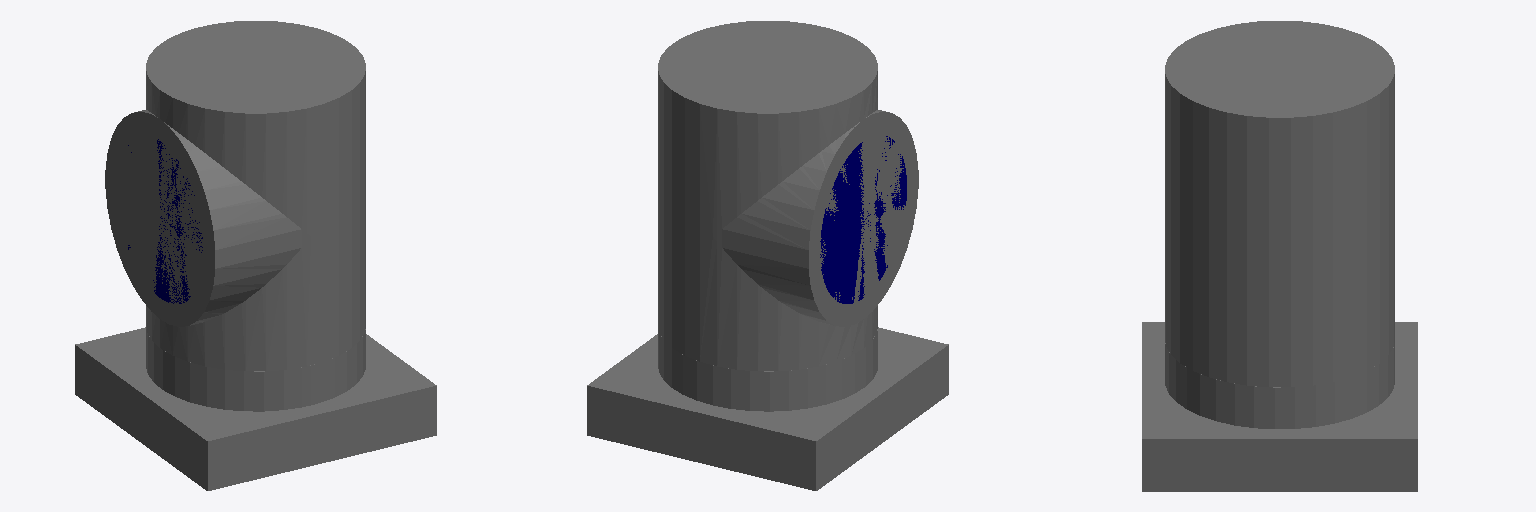
URDF robot description (UNNAMED_0):
<?xml version="1.0"?>
<robot  name="UNNAMED_0" >
 <link  name="BLU1_U_b_body" >
  <inertial >
   <origin  xyz="-9.4624E-18 1.1154E-17 0.022042"  rpy="0 0 0" />
   <mass  value="1" />
   <inertia  iyz="3.3647E-19"  iyy="0.009154"  ixy="1.7613E-19"  ixx="0.009154"  izz="0.015925"  ixz="-3.4018E-19" />
  </inertial>
  <visual >
   <origin  xyz="0 0 0"  rpy="0 0 0" />
   <geometry >
    <mesh  filename="package://base-l.SLDASM/meshes/b_body.STL" />
   </geometry>
   <material  name="body" >
    <color  rgba="0.5 0.5 0.5 1" />
   </material>
  </visual>
  <collision >
   <origin  xyz="0 0 0"  rpy="0 0 0" />
   <geometry >
    <mesh  filename="package://base-l.SLDASM/meshes/b_body.STL" />
   </geometry>
  </collision>
 </link>
 <link  name="BLU1_U_b_in" >
  <inertial >
   <origin  xyz="-9.4624E-18 -5.3214E-19 0.029258"  rpy="0 0 0" />
   <mass  value="5.9754" />
   <inertia  iyz="3.3422E-19"  iyy="0.009154"  ixy="-1.7613E-19"  ixx="0.009154"  izz="0.015925"  ixz="3.3605E-19" />
  </inertial>
  <visual >
   <origin  xyz="0 0 0"  rpy="0 0 0" />
   <geometry >
    <mesh  filename="package://base-l.SLDASM/meshes/b_in.STL" />
   </geometry>
   <material  name="blue" >
    <color  rgba="0 0 0.5 1" />
   </material>
  </visual>
  <collision >
   <origin  xyz="0 0 0"  rpy="0 0 0" />
   <geometry >
    <mesh  filename="package://base-l.SLDASM/meshes/b_in.STL" />
   </geometry>
  </collision>
 </link>
 <link  name="BLU1_U_tj_body" >
  <inertial >
   <origin  xyz="-0.0026078 -7.1138E-08 -0.0735"  rpy="0 0 0" />
   <mass  value="1.5884" />
   <inertia  iyz="-4.7613E-10"  iyy="0.0041567"  ixy="2.097E-09"  ixx="0.004117"  izz="0.0027805"  ixz="-8.5243E-19" />
  </inertial>
  <visual >
   <origin  xyz="0 0 0"  rpy="0 0 0" />
   <geometry >
    <mesh  filename="package://jointT-l.SLDASM/meshes/tj_body.STL" />
   </geometry>
   <material  name="body" >
    <color  rgba="0.5 0.5 0.5 1" />
   </material>
  </visual>
  <collision >
   <origin  xyz="0 0 0"  rpy="0 0 0" />
   <geometry >
    <mesh  filename="package://jointT-l.SLDASM/meshes/tj_body.STL" />
   </geometry>
  </collision>
 </link>
 <link  name="BLU1_U_tj_in" >
  <inertial >
   <origin  xyz="-1.904E-18 1.0123E-08 0.05439"  rpy="0 0 0" />
   <mass  value="1.5884" />
   <inertia  iyz="2.097E-09"  iyy="0.0041567"  ixy="4.7613E-10"  ixx="0.0027805"  izz="0.004117"  ixz="8.5243E-19" />
  </inertial>
  <visual >
   <origin  xyz="0 0 0"  rpy="0 0 0" />
   <geometry >
    <mesh  filename="package://jointT-l.SLDASM/meshes/tj_in.STL" />
   </geometry>
   <material  name="blue" >
    <color  rgba="0 0 0.5 1" />
   </material>
  </visual>
  <collision >
   <origin  xyz="0 0 0"  rpy="0 0 0" />
   <geometry >
    <mesh  filename="package://jointT-l.SLDASM/meshes/tj_in.STL" />
   </geometry>
  </collision>
 </link>
 <joint  type="fixed"  name="BLU1_U_b_large" >
  <origin  xyz="0 0 0.0513"  rpy="3.14159265358979 0 0" />
  <parent  link="BLU1_U_b_body" />
  <child  link="BLU1_U_b_in" />
  <axis  xyz="0 0 1" />
 </joint>
 <joint  type="revolute"  name="BLU1_U_tj_large_1" >
  <origin  xyz="0 0 0"  rpy="0 0 0" />
  <parent  link="BLU1_U_b_in" />
  <child  link="BLU1_U_tj_body" />
  <axis  xyz="0 0 1" />
  <limit  lower="-3.1416"  effort="60.5"  upper="3.1416"  velocity="0.33" />
 </joint>
 <joint  type="fixed"  name="BLU1_U_tj_large_2" >
  <origin  xyz="-0.057 0 -0.0735"  rpy="0 1.5707963267949 0" />
  <parent  link="BLU1_U_tj_body" />
  <child  link="BLU1_U_tj_in" />
  <axis  xyz="0 0 0" />
 </joint>
</robot>

--- Facts derived from the render (not from the file) ---
Views: 3 orthographic renders of the robot side by side, from view 1: azimuth 30°, elevation 25°; view 2: azimuth 150°, elevation 25°; view 3: azimuth 270°, elevation 25°.
Robot: UNNAMED_0 — 4 links, 3 joints (1 revolute, 2 fixed); root link BLU1_U_b_body; default pose: all joints at 0.
Links seen in each view (by area): view 1: BLU1_U_tj_body, BLU1_U_b_body, BLU1_U_tj_in; view 2: BLU1_U_tj_body, BLU1_U_b_body, BLU1_U_tj_in; view 3: BLU1_U_tj_body, BLU1_U_b_body.
Link boxes in pixels (x1,y1,x2,y2): BLU1_U_tj_body: (105, 21, 365, 370); BLU1_U_b_body: (75, 327, 436, 490); BLU1_U_tj_in: (128, 139, 202, 303); BLU1_U_tj_body: (658, 21, 918, 370); BLU1_U_b_body: (587, 327, 948, 490); BLU1_U_tj_in: (820, 136, 906, 303); BLU1_U_tj_body: (1165, 21, 1394, 386); BLU1_U_b_body: (1142, 322, 1417, 491).
Size in the robot's own frame: 0.1368 by 0.1368 by 0.1983 metres.
Meshes: 4 distinct files referenced, 4 mesh visuals loaded (4 binary STL).